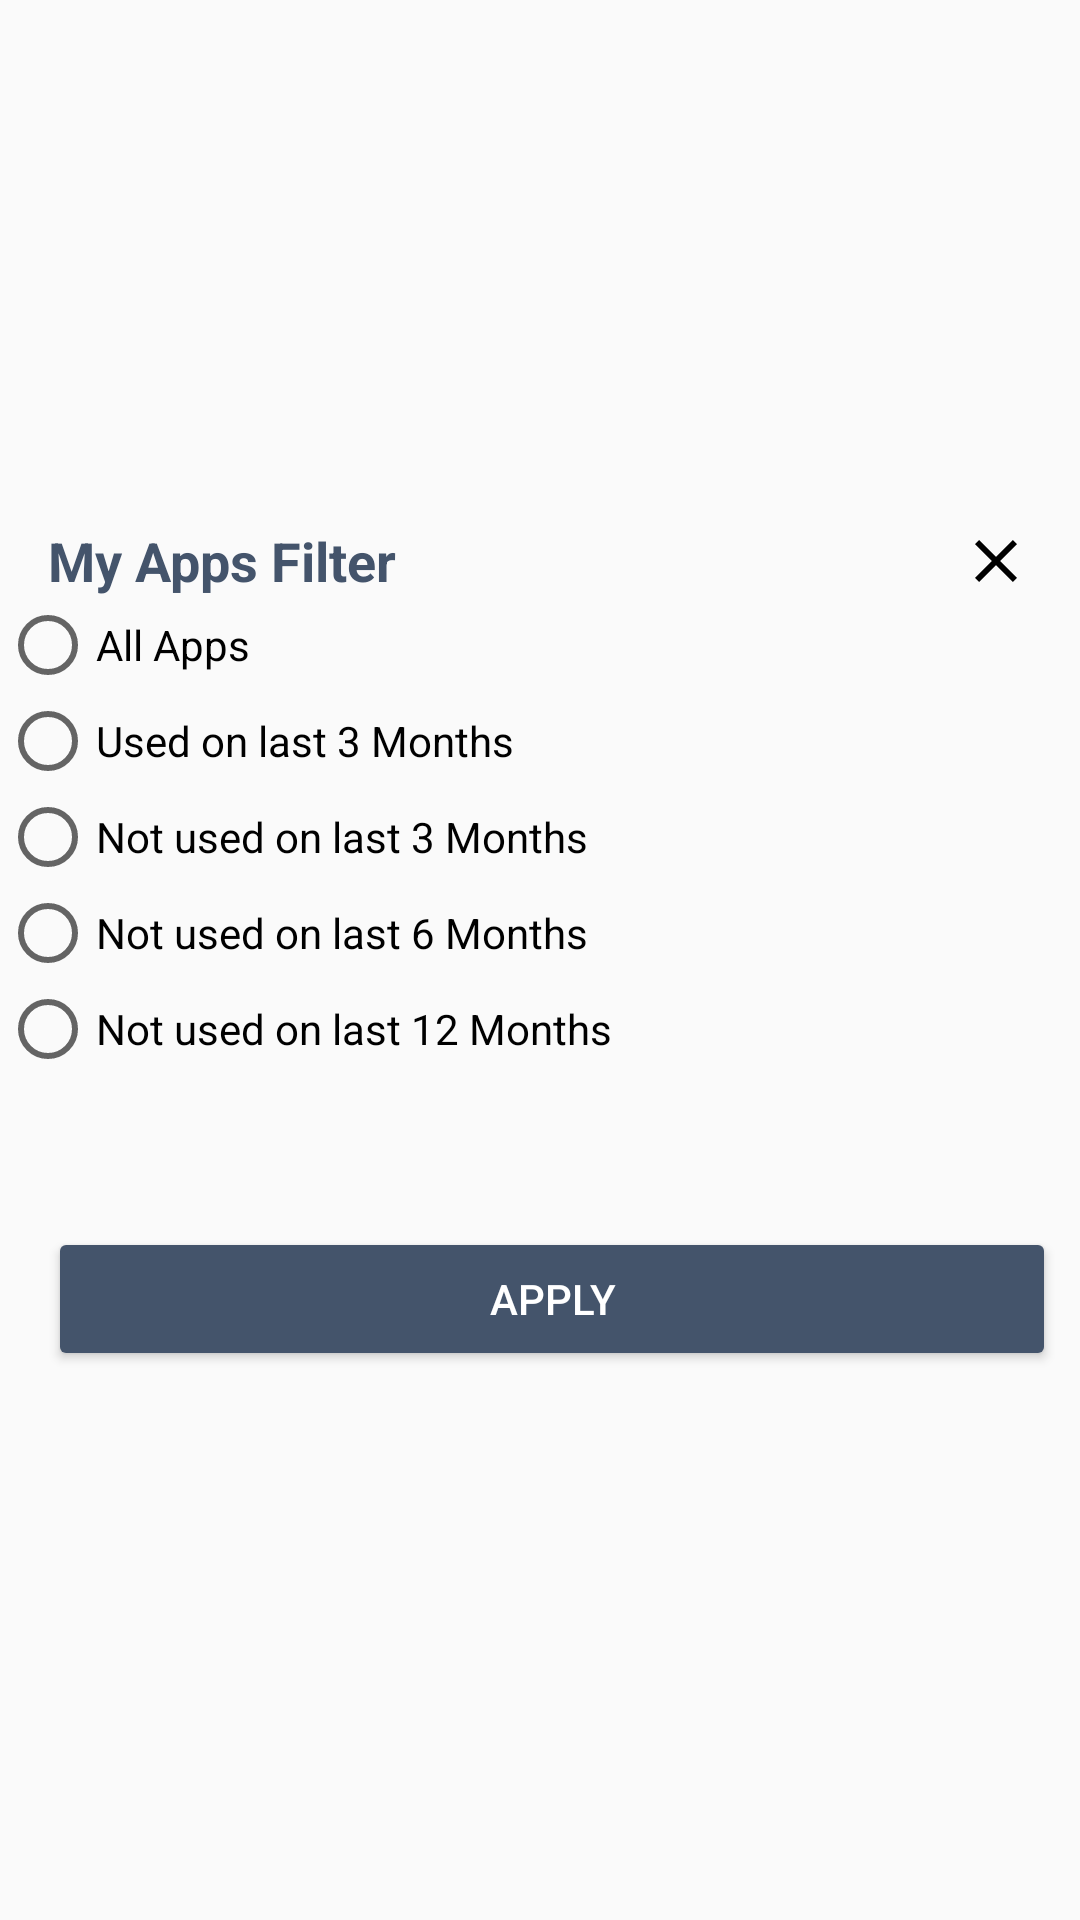

Locate icon controls on the screen. Image size 1080w x 1920h, boxes as Rect(x1, y1, x2, y2).
close: Rect(975, 540, 1017, 582)
